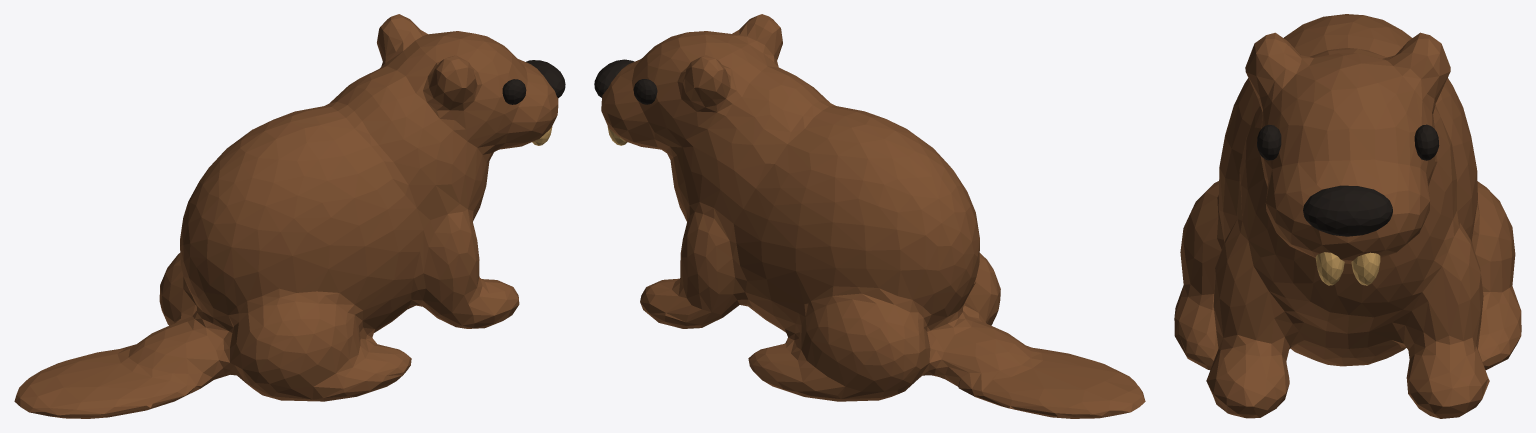
File: NEW_RECOVERY_046_LOD0.glb
3 renders of one model, left to right at view 1: azimuth 30°, elevation 25°; view 2: azimuth 150°, elevation 25°; view 3: azimuth 270°, elevation 25°, orthographic. The views are drawn at different scales.
Parts seen in each view (by area): view 1: Beaver solid sculpt; view 2: Beaver solid sculpt; view 3: Beaver solid sculpt.
Boxes of the visible parts, left/top/right/bottom form: Beaver solid sculpt: left=14, top=14, right=565, bottom=418; Beaver solid sculpt: left=594, top=14, right=1145, bottom=418; Beaver solid sculpt: left=1174, top=14, right=1521, bottom=418.
Bounding box in the file's own units: 2.9 × 1.5 × 1.19.
